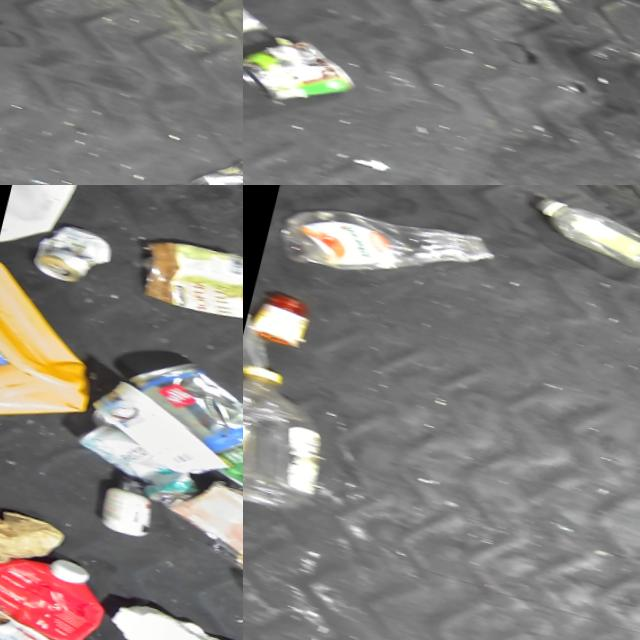can: (109, 336, 243, 464), (69, 411, 213, 510), (243, 14, 363, 113), (25, 214, 124, 297), (205, 417, 243, 499)
milk_jug: (94, 584, 243, 640)
non_white_jug: (0, 253, 127, 456)
plastic_bottle: (268, 185, 507, 317), (243, 359, 347, 526), (518, 185, 640, 270)
